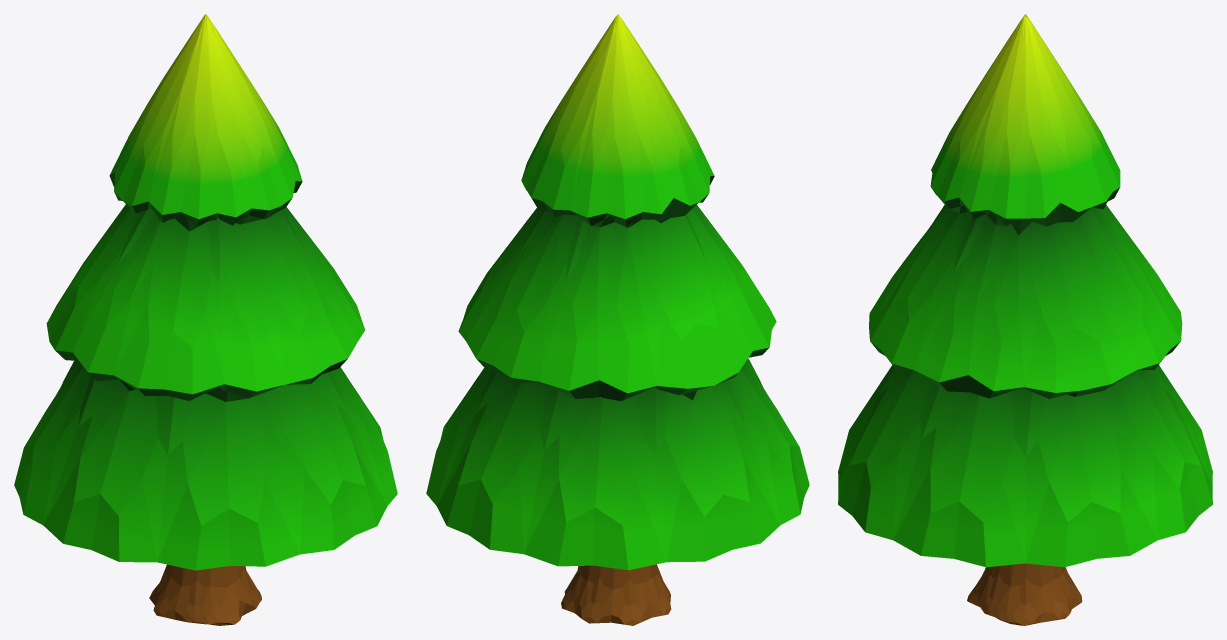
File: tree.obj
3 renders of one model, left to right at view 1: azimuth 30°, elevation 25°; view 2: azimuth 150°, elevation 25°; view 3: azimuth 270°, elevation 25°, orthographic.
Visible parts, largest first — view 1: tree_Cylinder; view 2: tree_Cylinder; view 3: tree_Cylinder.
Part boxes in pixels (x1,y1,x2,y2): tree_Cylinder: (14,14,397,625); tree_Cylinder: (426,14,809,625); tree_Cylinder: (838,14,1212,625).
Size of the model in its own units: 0.958 by 1.66 by 0.958.
1 material, 1 textured.
